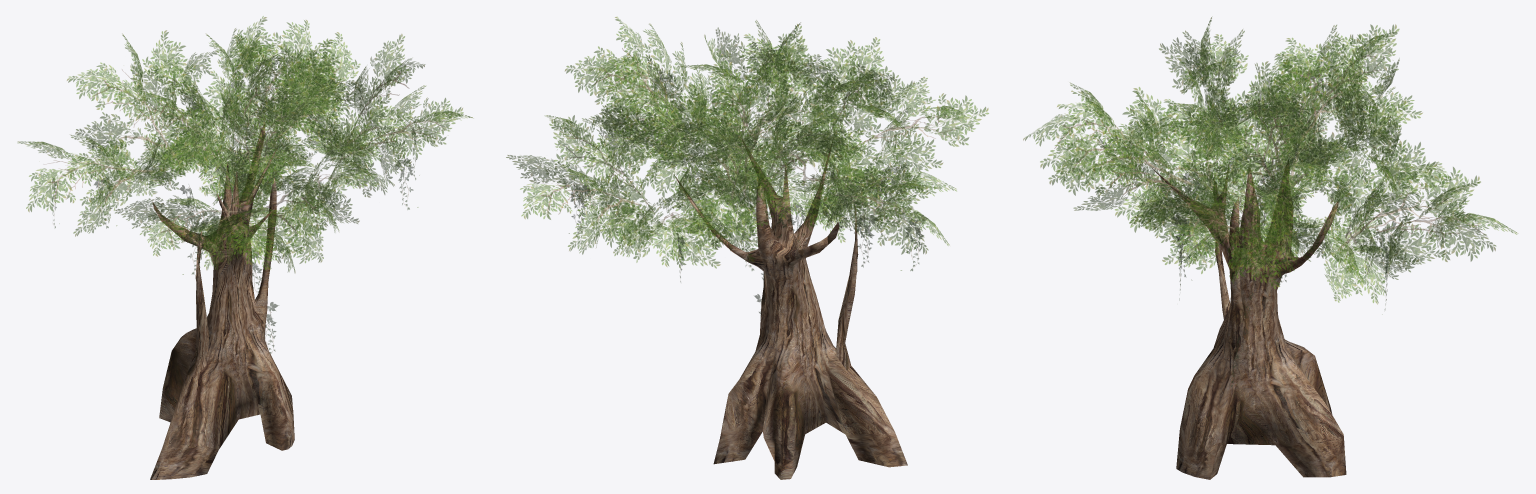
Rendered from BanyanOld.FBX.
3 views of the same model, side by side, from view 1: azimuth 30°, elevation 25°; view 2: azimuth 150°, elevation 25°; view 3: azimuth 270°, elevation 25° (orthographic). The views are drawn at different scales.
Parts seen in each view (by area): view 1: banyanB; view 2: banyanB; view 3: banyanB.
Boxes of the visible parts, x1=… form: banyanB: x1=18, y1=16, x2=472, y2=479; banyanB: x1=506, y1=17, x2=988, y2=479; banyanB: x1=1023, y1=17, x2=1517, y2=479.
Size of the model in its own units: 12.33 by 11.36 by 11.92.
